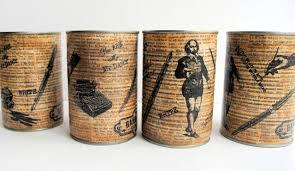Tin: (4, 12, 295, 156)
